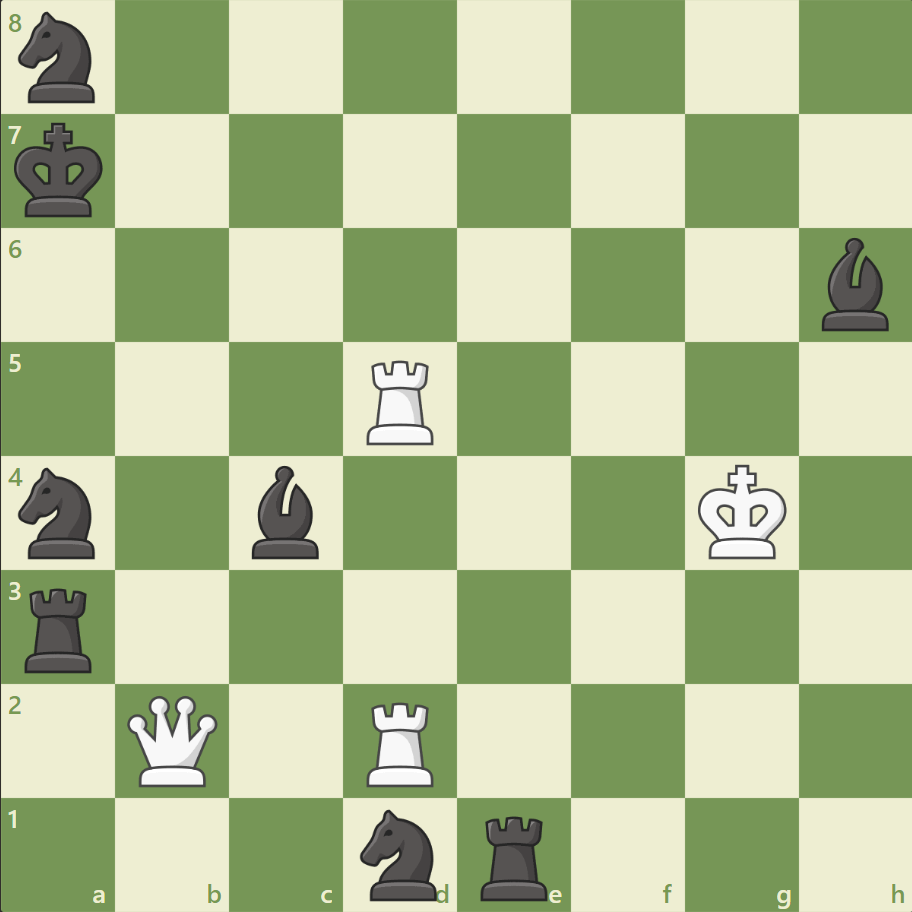K: (692, 458, 792, 566)
Q: (124, 690, 223, 789)
R: (360, 352, 442, 449), (360, 693, 442, 790)
b: (812, 233, 896, 336), (244, 460, 328, 563)
k: (11, 117, 111, 225)
n: (351, 802, 449, 904), (11, 7, 108, 110), (11, 461, 108, 564)
r: (473, 806, 556, 904), (19, 579, 102, 676)
